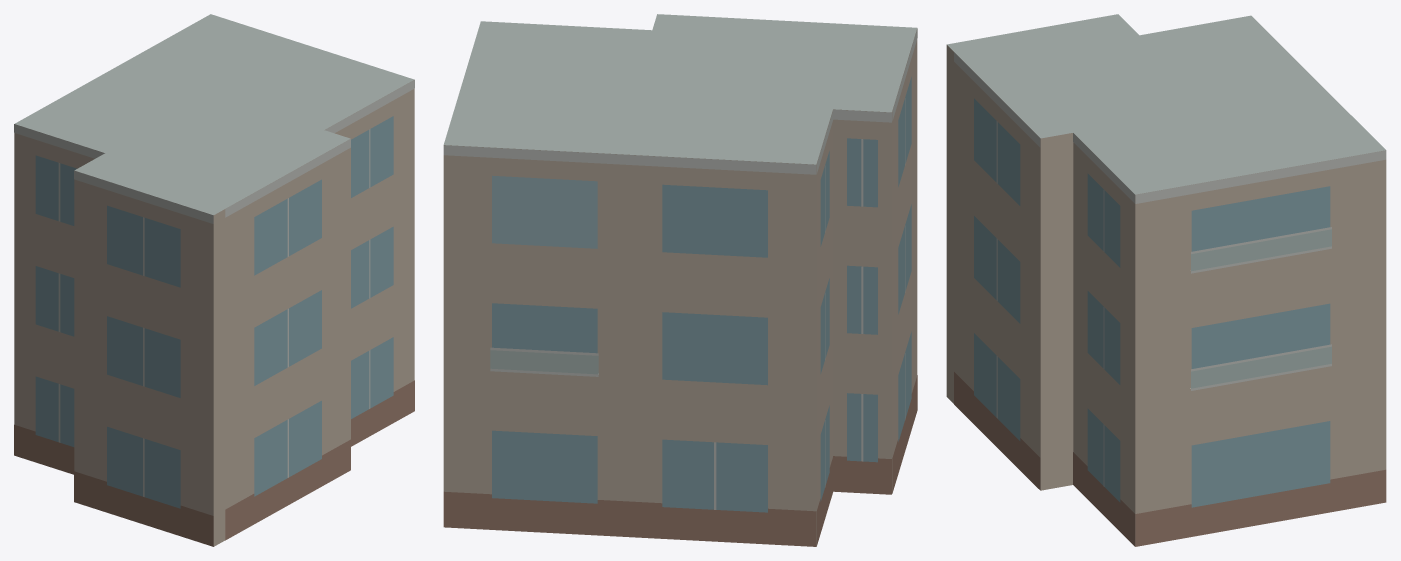
File: survey-upis-32926896.glb
3 renders of one model, left to right at view 1: azimuth 30°, elevation 25°; view 2: azimuth 150°, elevation 25°; view 3: azimuth 270°, elevation 25°, orthographic. The views are drawn at different scales.
Parts seen in each view (by area): view 1: survey-upis-32926896.tmp; view 2: survey-upis-32926896.tmp; view 3: survey-upis-32926896.tmp.
Part boxes in pixels (x1,y1,x2,y2): survey-upis-32926896.tmp: (14, 14, 414, 546); survey-upis-32926896.tmp: (443, 14, 917, 546); survey-upis-32926896.tmp: (946, 14, 1386, 546).
Bounding box in the file's own units: 10.02 × 9.1 × 10.3.
